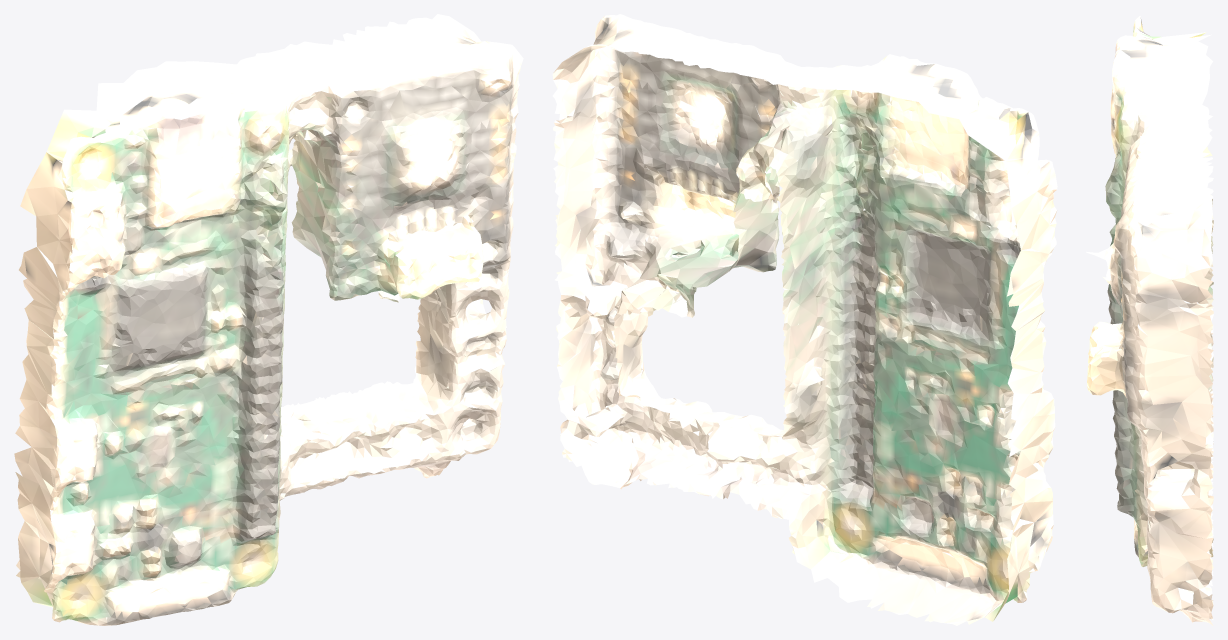
The model's file is scd41.glb.
The picture shows the model from 3 angles, left to right: view 1: azimuth 30°, elevation 25°; view 2: azimuth 150°, elevation 25°; view 3: azimuth 270°, elevation 25°; orthographic projection. The views are drawn at different scales.
Parts seen in each view (by area): view 1: texturedMesh; view 2: texturedMesh; view 3: texturedMesh.
Part boxes in pixels (x1,y1,x2,y2): texturedMesh: (14,14,523,625); texturedMesh: (552,14,1057,625); texturedMesh: (1086,16,1213,625).
Bounding box in the file's own units: 0.0647 × 0.0691 × 0.0162.
